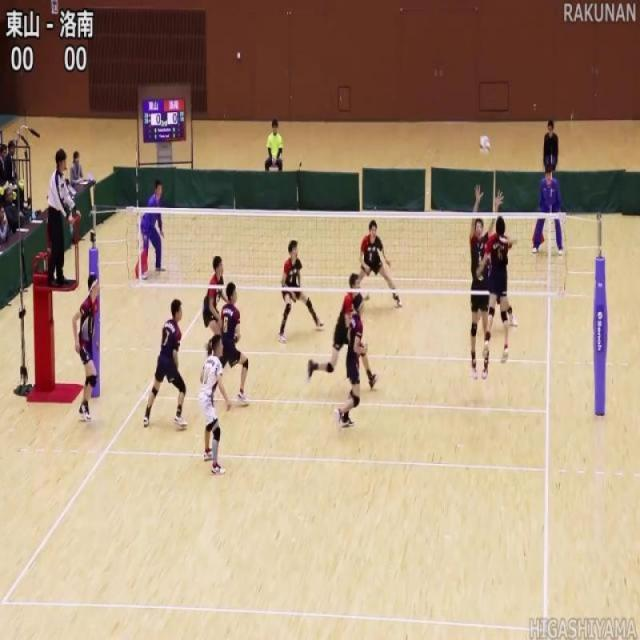volleyball: (478, 134, 492, 158)
